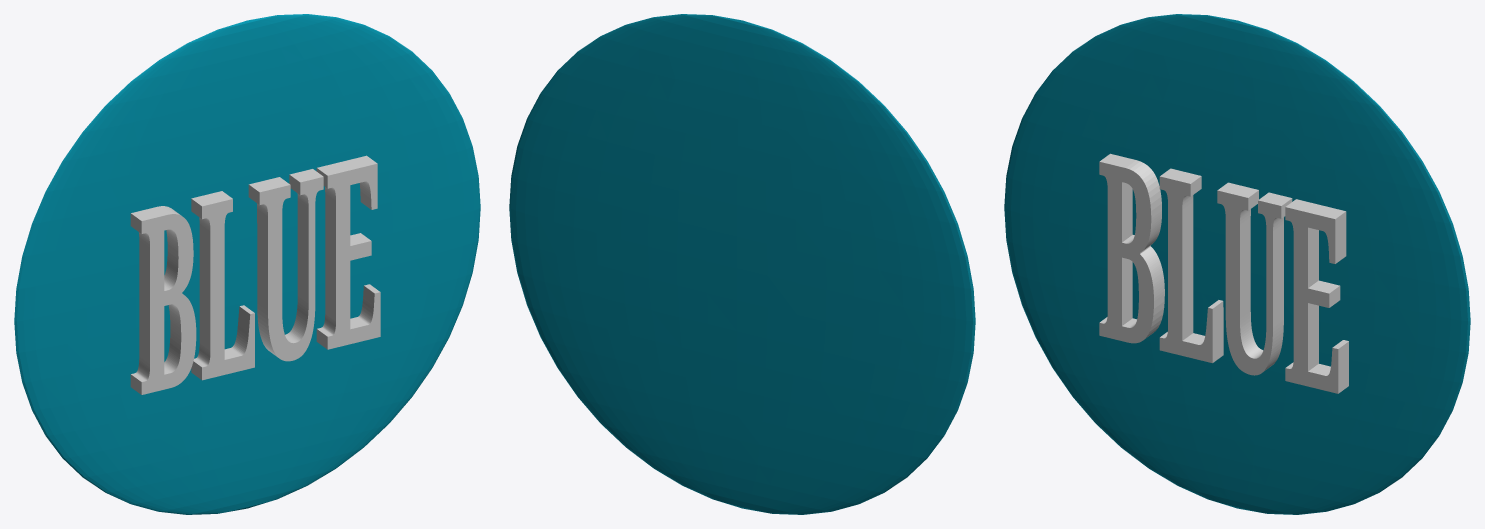
Rendered from blue button.glb.
The picture shows the model from 3 angles, left to right: view 1: azimuth 30°, elevation 25°; view 2: azimuth 150°, elevation 25°; view 3: azimuth 330°, elevation 25°; orthographic projection.
Visible parts, largest first — view 1: Mesh_Mesh_head_geo.001_lambert2SG.001; view 2: Mesh_Mesh_head_geo.001_lambert2SG.001; view 3: Mesh_Mesh_head_geo.001_lambert2SG.001.
Boxes of the visible parts, x1=… form: Mesh_Mesh_head_geo.001_lambert2SG.001: x1=14, y1=14, x2=480, y2=514; Mesh_Mesh_head_geo.001_lambert2SG.001: x1=509, y1=14, x2=975, y2=514; Mesh_Mesh_head_geo.001_lambert2SG.001: x1=1004, y1=14, x2=1470, y2=514.
Bounding box in the file's own units: 25 × 25 × 2.
